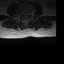CCS_normal: (25, 11, 27, 19)
LFS_normal: (28, 10, 30, 16)
LLS_normal: (27, 11, 29, 17)
RFS_stenosis: (21, 10, 23, 16)
RLS_normal: (23, 11, 25, 17)
